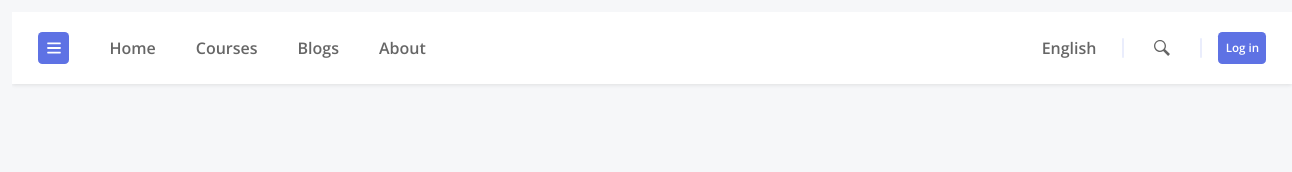
Router tests › About link works
The width and height of the screenshot is (1292, 172).
What coordinates should you click on to do the following:
click the link with test id "about-link"
I would click on:
 (402, 48)
Its box is [379, 37, 426, 59].
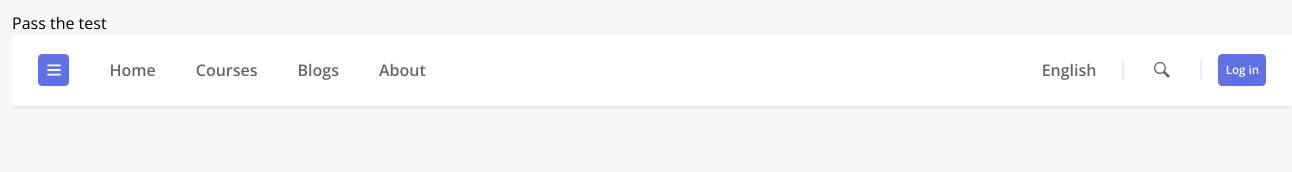
expect the text "Pass the test" is shown: met, box [12, 12, 107, 34]
